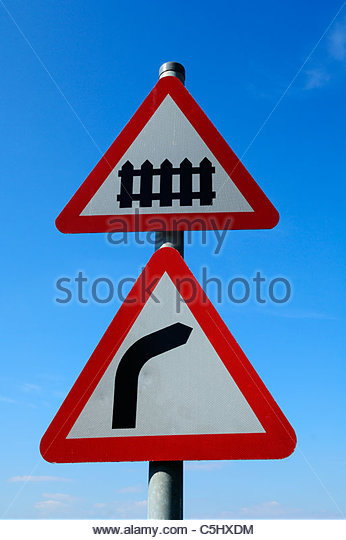Bend_to_right: (33, 245, 301, 464)
